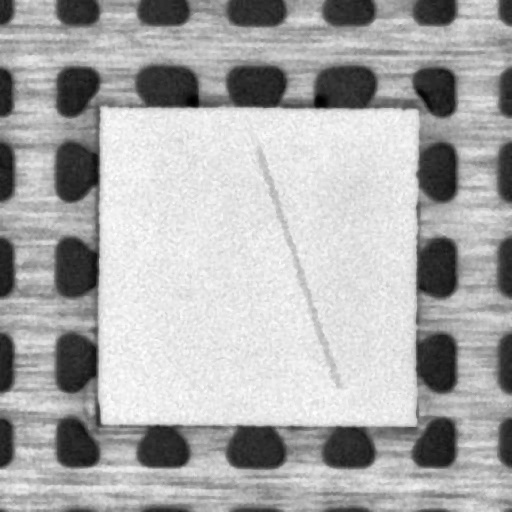DIE_CRACK: (257, 149, 336, 386)
